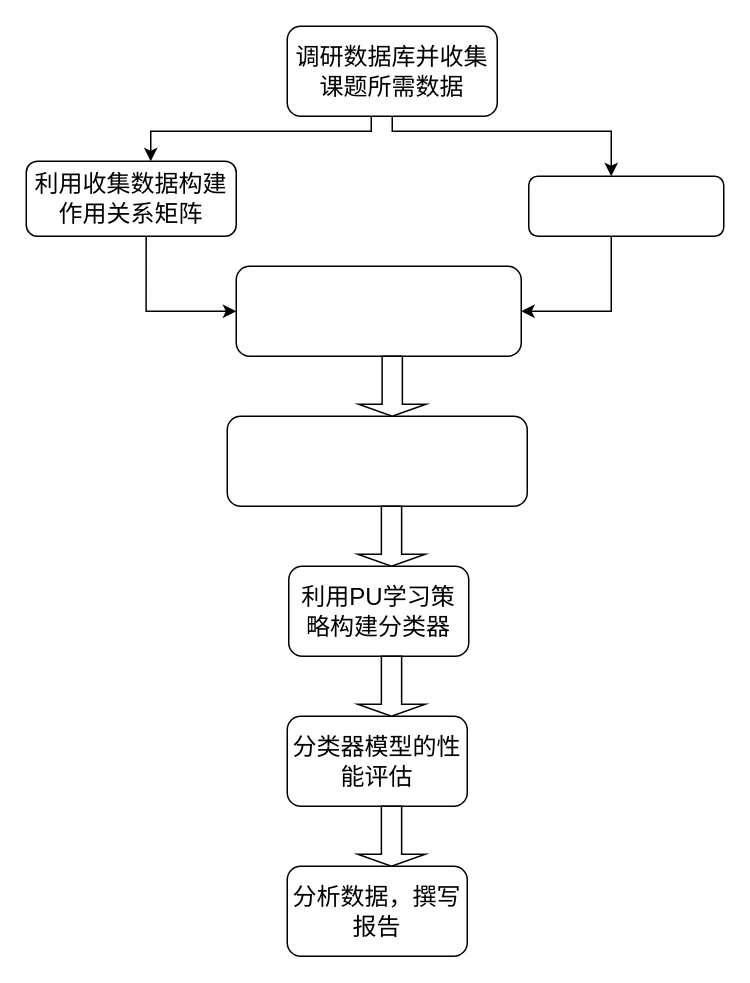
The diagram is 750 pixels wide and 983 high, and some of its shapes have lost their labels. Each missing label, with the centre of its shape:
从异构网络中提取元路径，利用 Hetesim 算法挖掘药物 - 靶标特征: point 376,460
利用匹配算法构建相似度矩阵: point 625,205
构建 融合多源数据法的 药物 靶标疾病异构 网络: point 378,310
